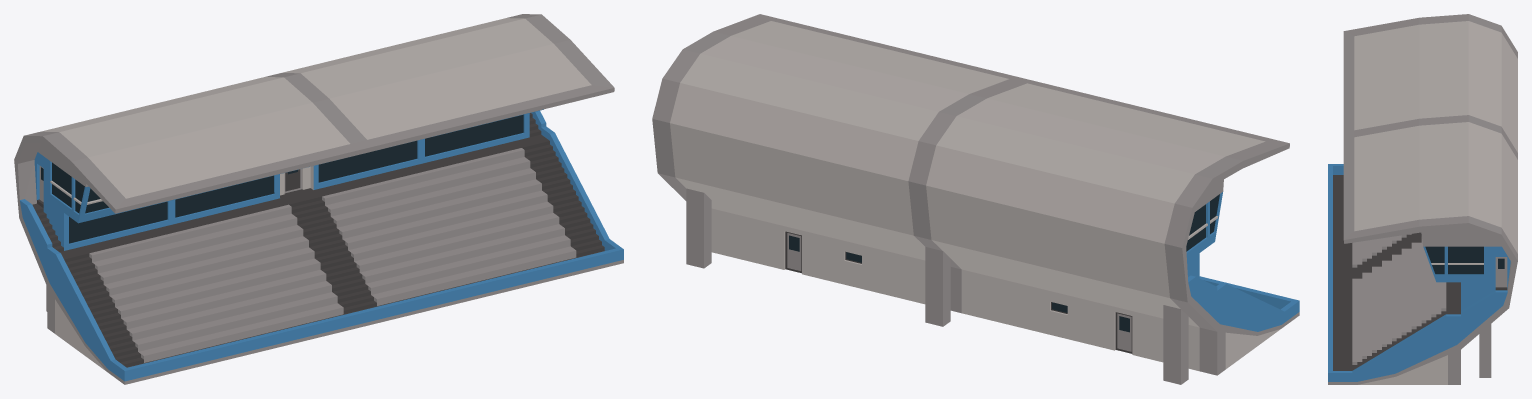
File: tribune-streight.glb
3 views of the same model, side by side, from view 1: azimuth 30°, elevation 25°; view 2: azimuth 150°, elevation 25°; view 3: azimuth 270°, elevation 25° (orthographic). The views are drawn at different scales.
Parts seen in each view (by area): view 1: tribune-streight; view 2: tribune-streight; view 3: tribune-streight.
Part boxes in pixels (x1,y1,x2,y2): tribune-streight: (14,14,623,384); tribune-streight: (652,14,1299,384); tribune-streight: (1328,14,1517,384).
Bounding box in the file's own units: 30 × 10.84 × 11.52.
Materials: 1 (1 with a texture image).
